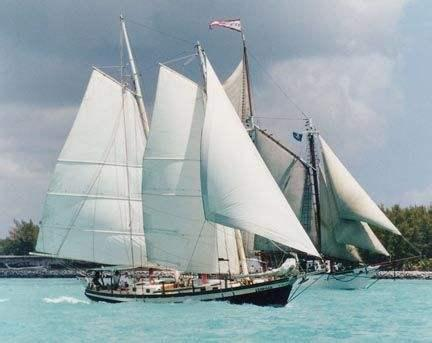fanchuan: (30, 10, 308, 308)
